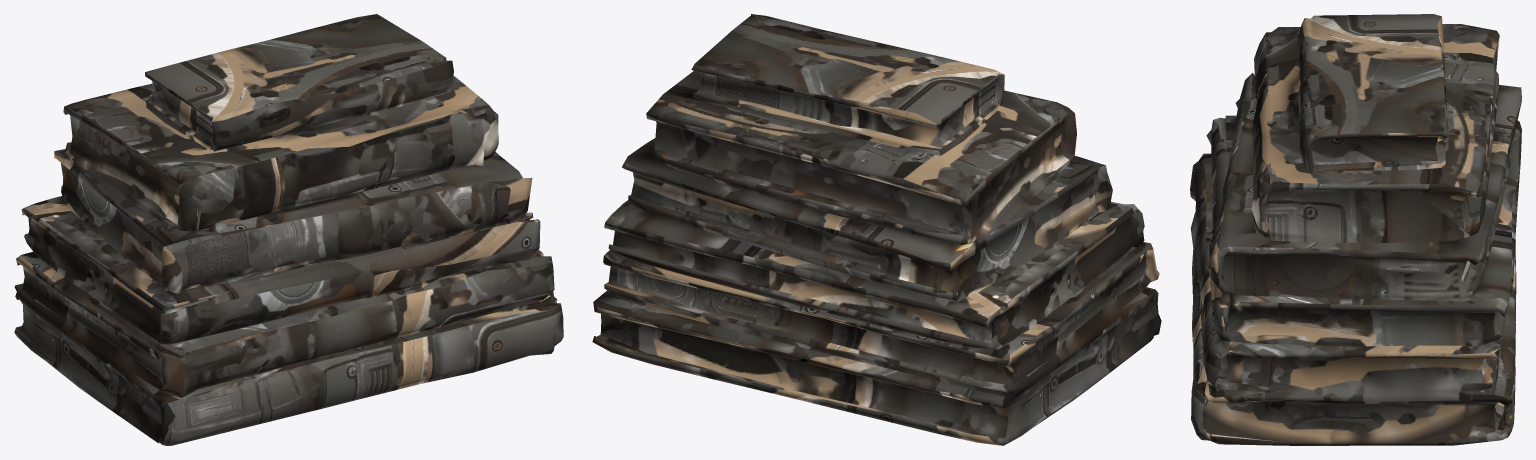
Rendered from BookStack.fbx.
3 views of the same model, side by side, from view 1: azimuth 30°, elevation 25°; view 2: azimuth 150°, elevation 25°; view 3: azimuth 270°, elevation 25° (orthographic). The views are drawn at different scales.
Visible parts, largest first — view 1: mesh_node; view 2: mesh_node; view 3: mesh_node.
Boxes of the visible parts, x1,y1,x2,y2 form: mesh_node: [14, 14, 563, 445]; mesh_node: [592, 14, 1161, 445]; mesh_node: [1190, 14, 1521, 445].
Size of the model in its own units: 1.97 by 1.25 by 1.34.
